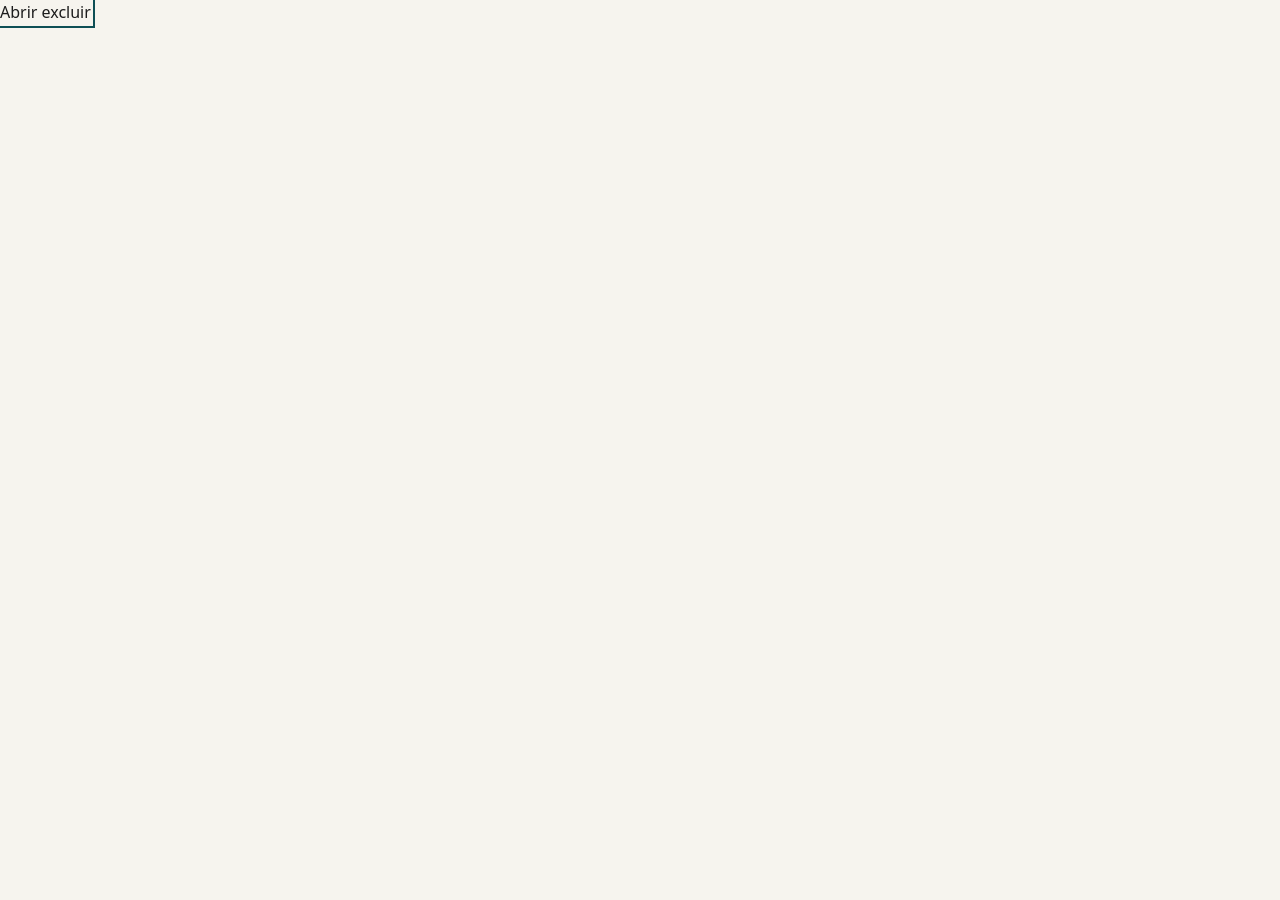
Scenario: devolver el foco al cerrar los diálogos de ventas (T23a, P-2) › feliz: Cancelar y Esc de «Excluir venta» devuelven el foco al botón que lo abrió
The image size is (1280, 900).
Press Enter
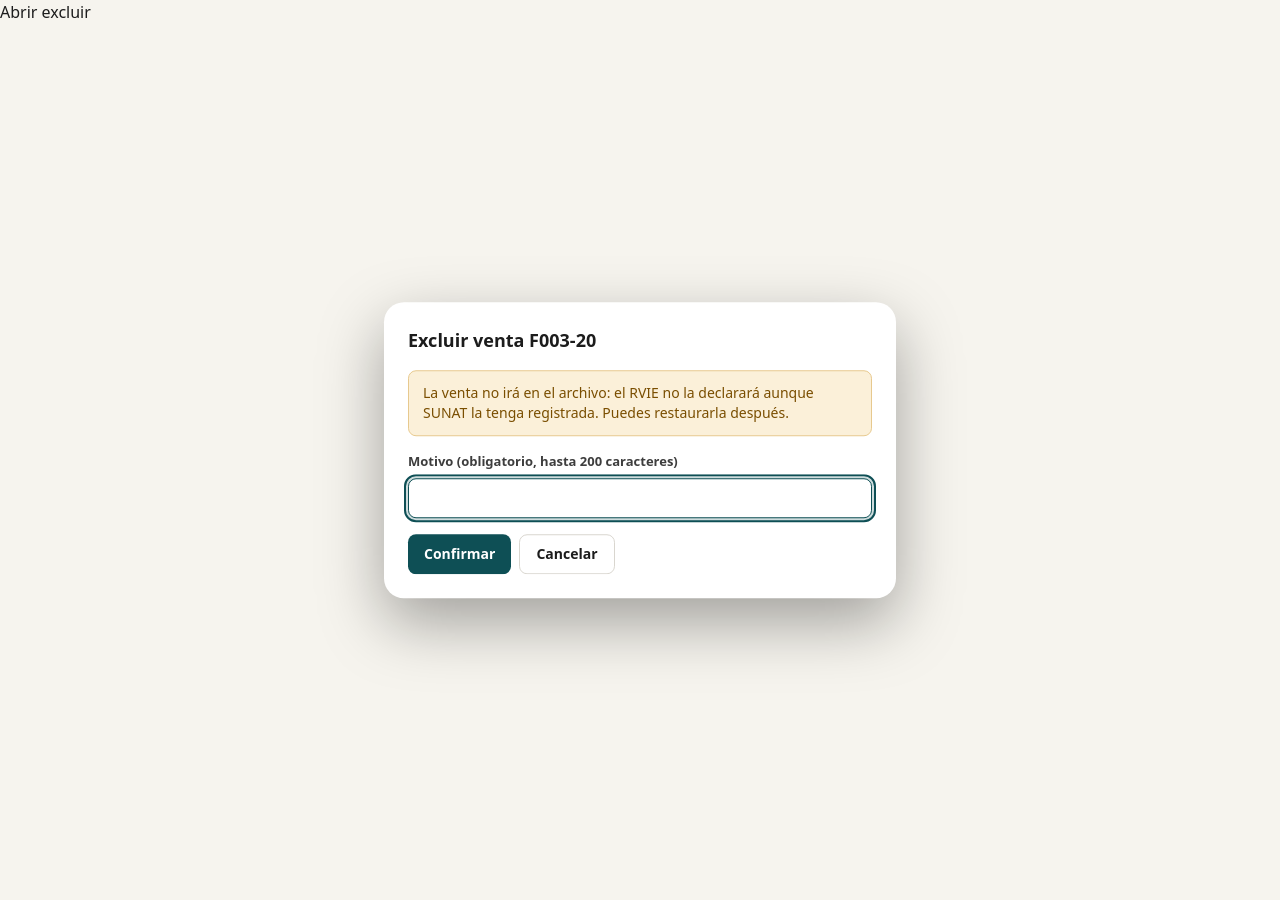
Click the button "Cancelar".
click(567, 554)  # box [519,534,614,574]
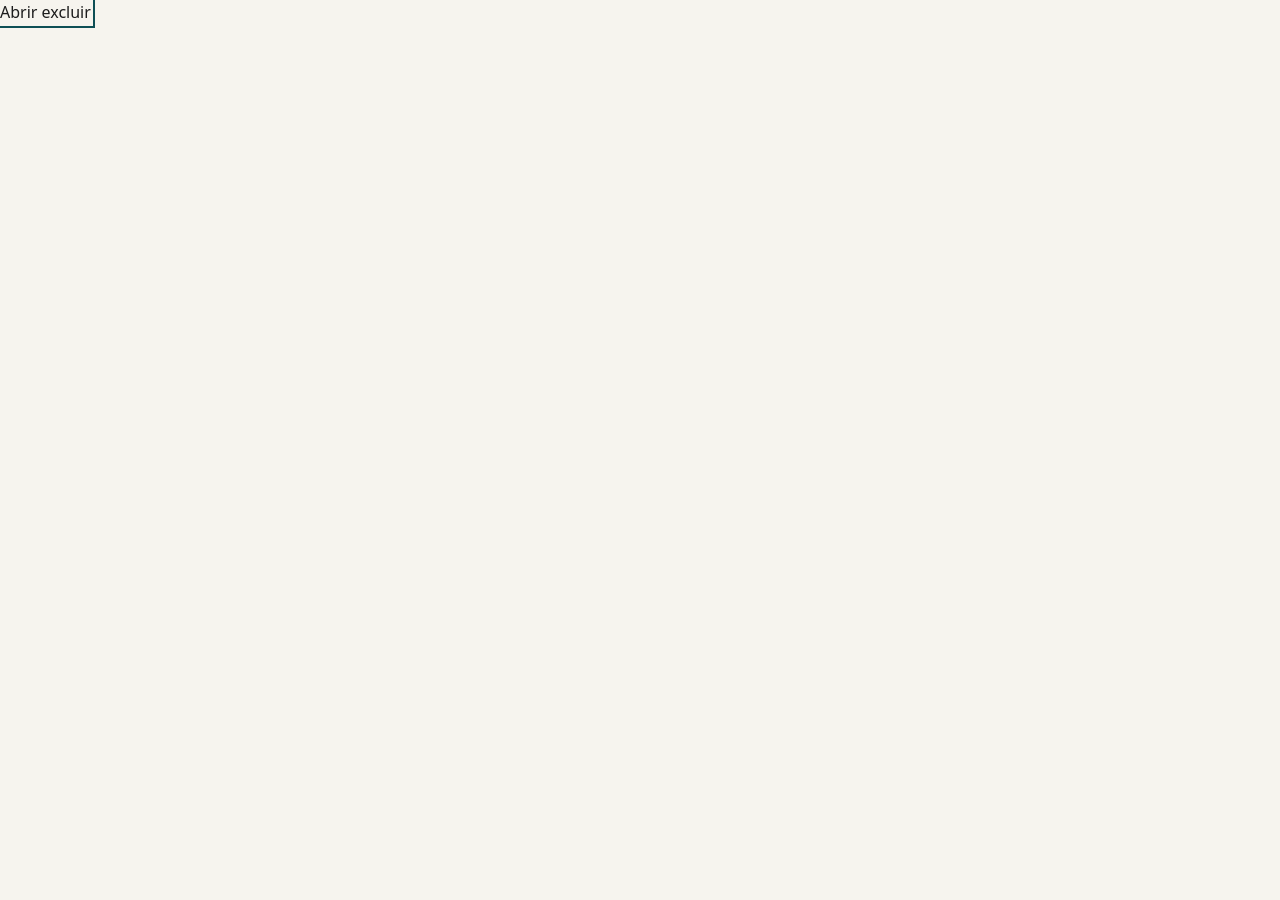
Check: the dialog is gone
Press Enter
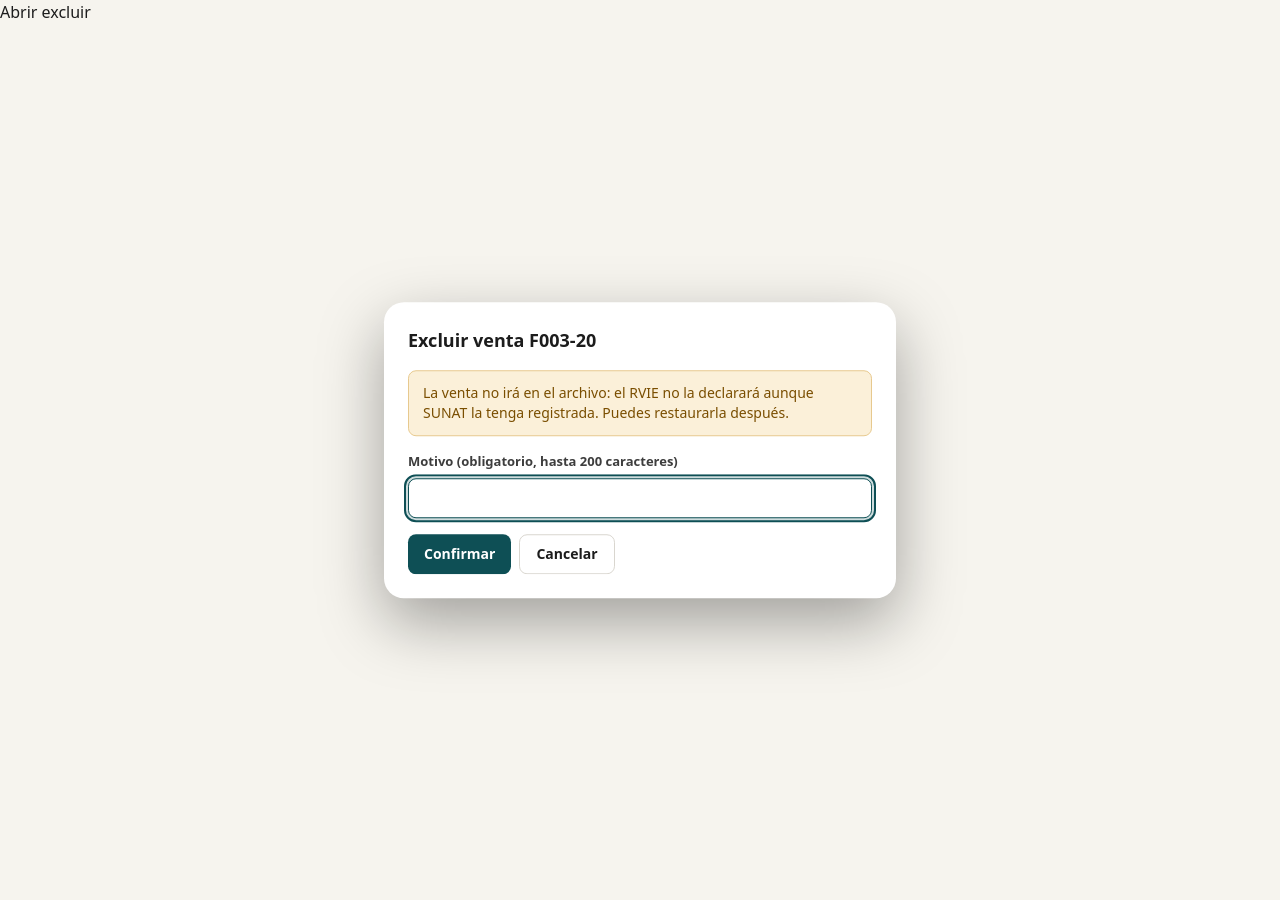
Check: the dialog is shown, box [384,302,896,598]
Press Escape
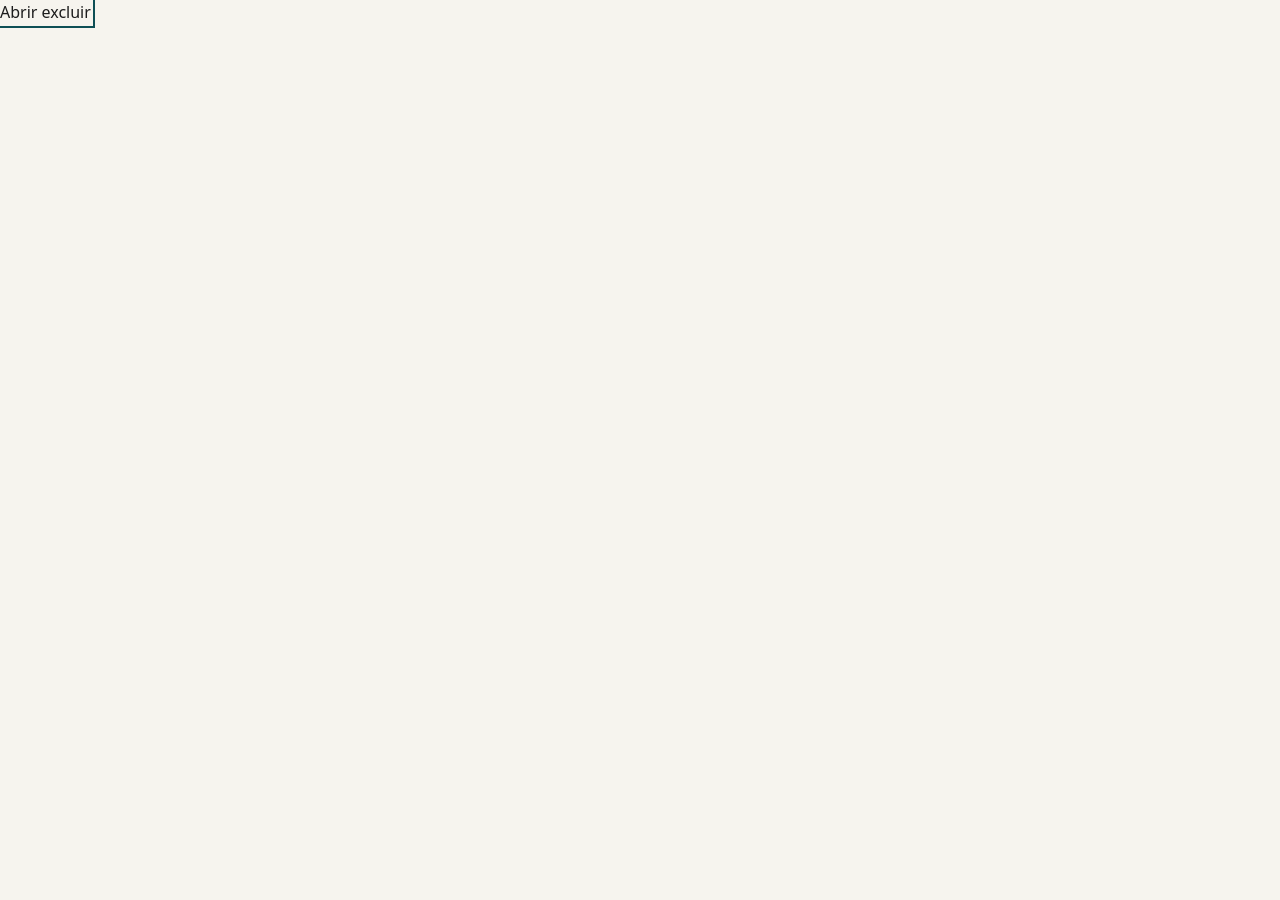
Check: the dialog is gone
